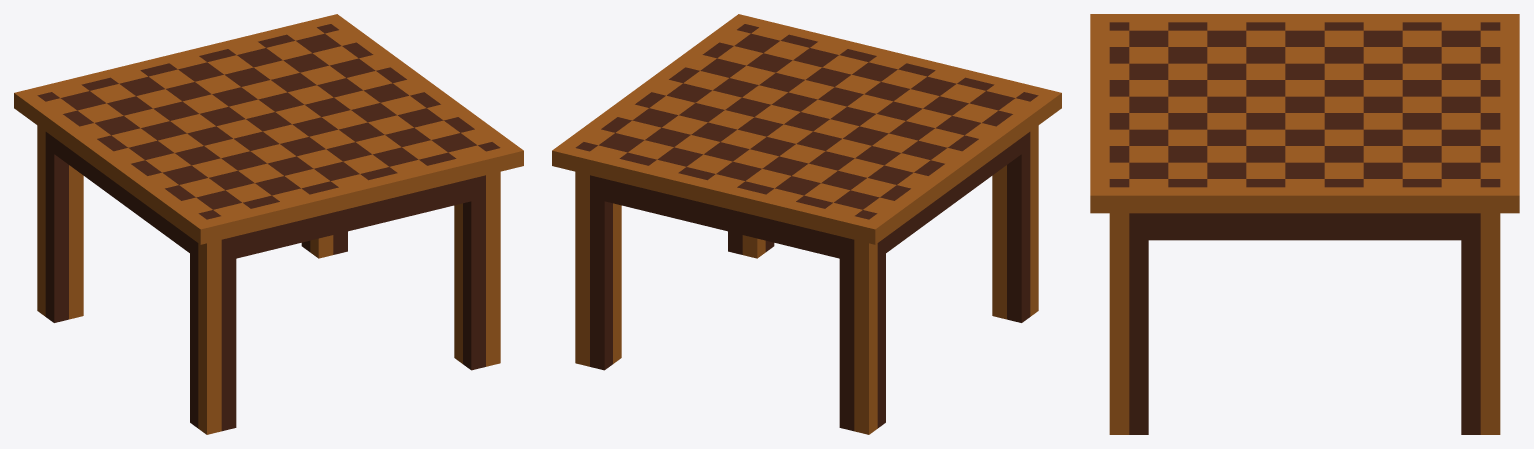
Rendered from Table.obj.
3 views of the same model, side by side, from view 1: azimuth 30°, elevation 25°; view 2: azimuth 150°, elevation 25°; view 3: azimuth 270°, elevation 25° (orthographic). The views are drawn at different scales.
Bounding box in the file's own units: 2.2 × 1.4 × 2.2.
1 material, 1 textured.
